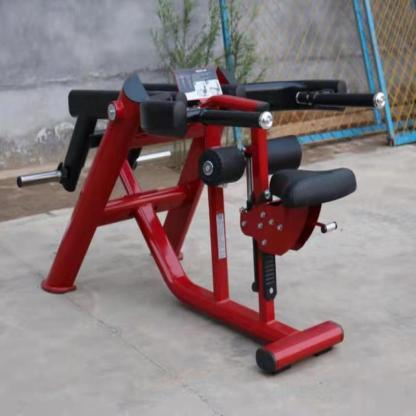seated dip machine: (17, 67, 387, 378)
